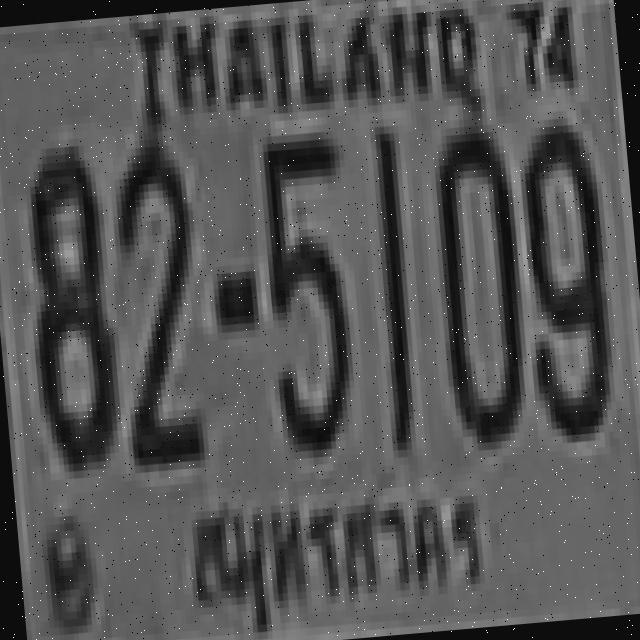0: (426, 120, 528, 442)
1: (364, 123, 416, 440)
2: (102, 152, 210, 466), (106, 133, 207, 440)
5: (252, 130, 359, 452)
8: (16, 144, 120, 466)
9: (510, 116, 613, 438)
SamutSakhon: (172, 463, 500, 640)
